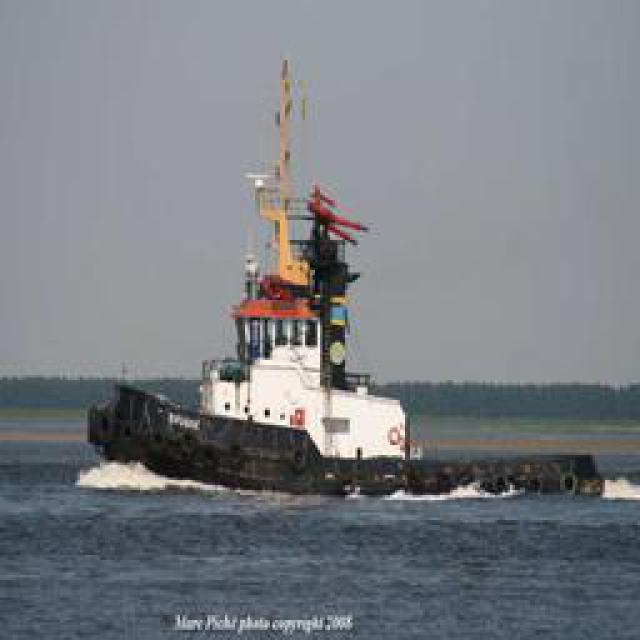Ship: (92, 65, 412, 498)
